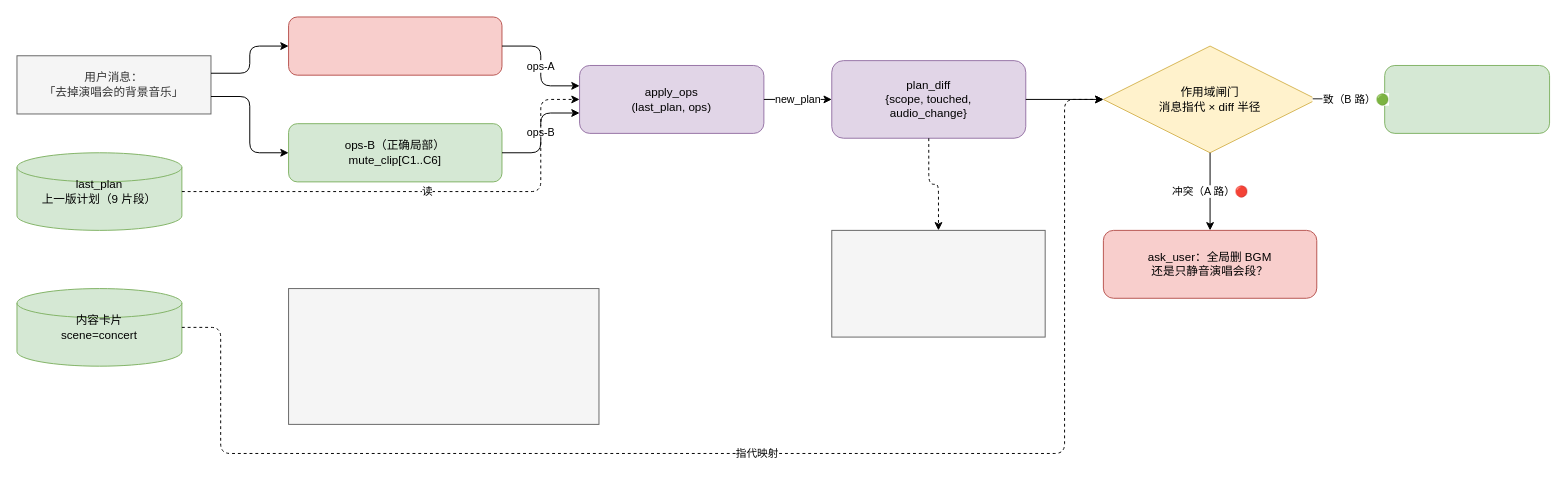
This 1567x478 diagram has some shape labels left out. The centre of each missing label's shape, as x and y in pixels:
diff 卡 → 渲染: (1467,99)
ops-A（模型选了全局） set_audio(null): (395,45)
副作用显式化： audio 块被删除 ⇒ ⚠ 所有原声恢复 （V7.7.1 默认翻转）: (938,283)
闸门 2×2 判定表 消息 ＼ diff 全局 局部 局部指代 🔴 拦 🟢 过 全局量词 🟢 过 🔴 拦: (443,356)
